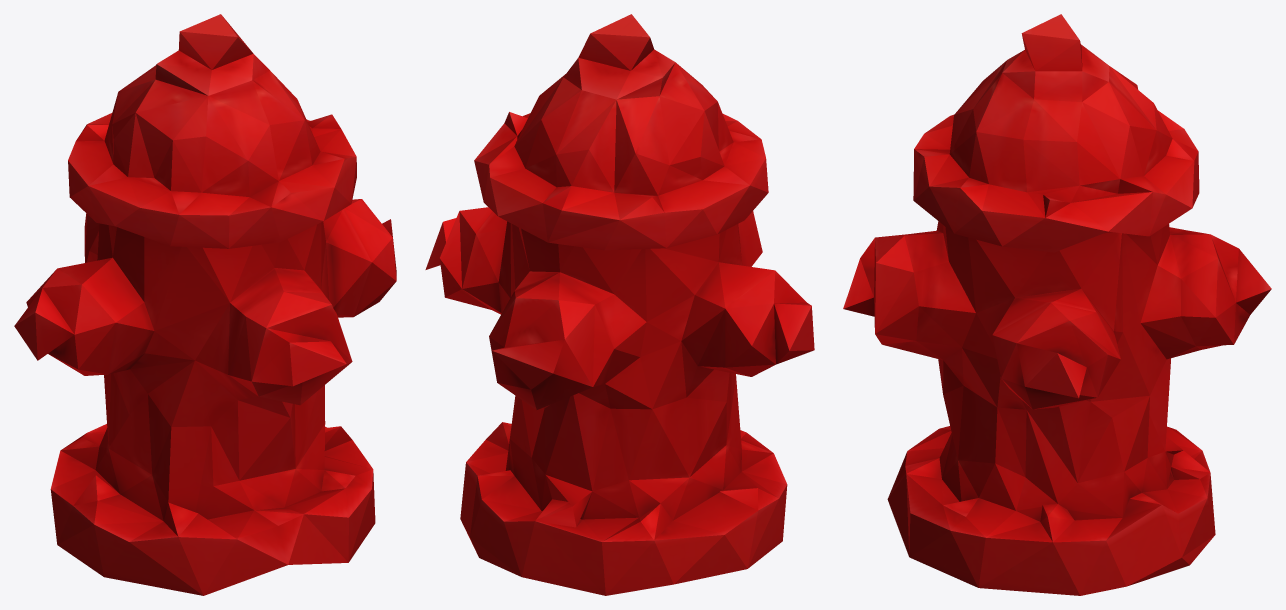
File: fire_hydrant.glb
3 views of the same model, side by side, from view 1: azimuth 30°, elevation 25°; view 2: azimuth 150°, elevation 25°; view 3: azimuth 270°, elevation 25° (orthographic).
Parts seen in each view (by area): view 1: geometry_0; view 2: geometry_0; view 3: geometry_0.
Boxes of the visible parts, <box> form: geometry_0: <box>14,14,396,595</box>; geometry_0: <box>425,14,814,595</box>; geometry_0: <box>843,14,1271,595</box>.
Bounding box in the file's own units: 0.7747 × 1.01 × 0.7797.
1 material, 1 textured.
